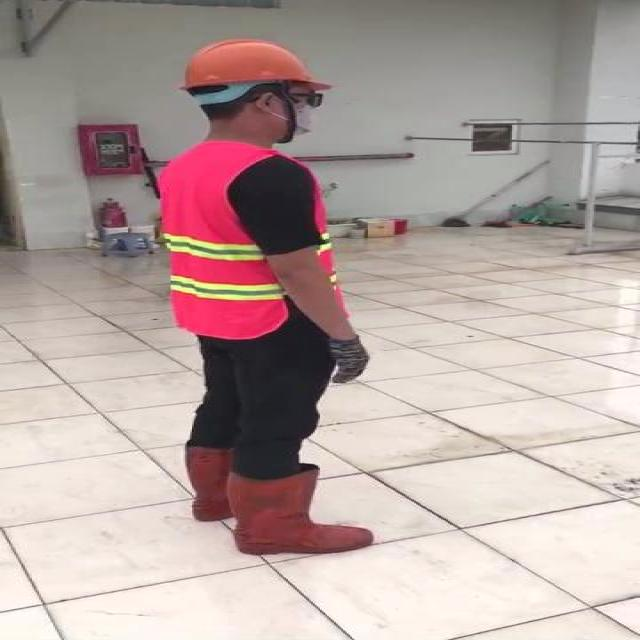boots: (230, 468, 372, 557), (174, 435, 235, 521)
hand_glove: (324, 339, 368, 385)
head_helmet: (180, 37, 332, 90)
person: (143, 36, 389, 567)
vest: (156, 145, 354, 340)
